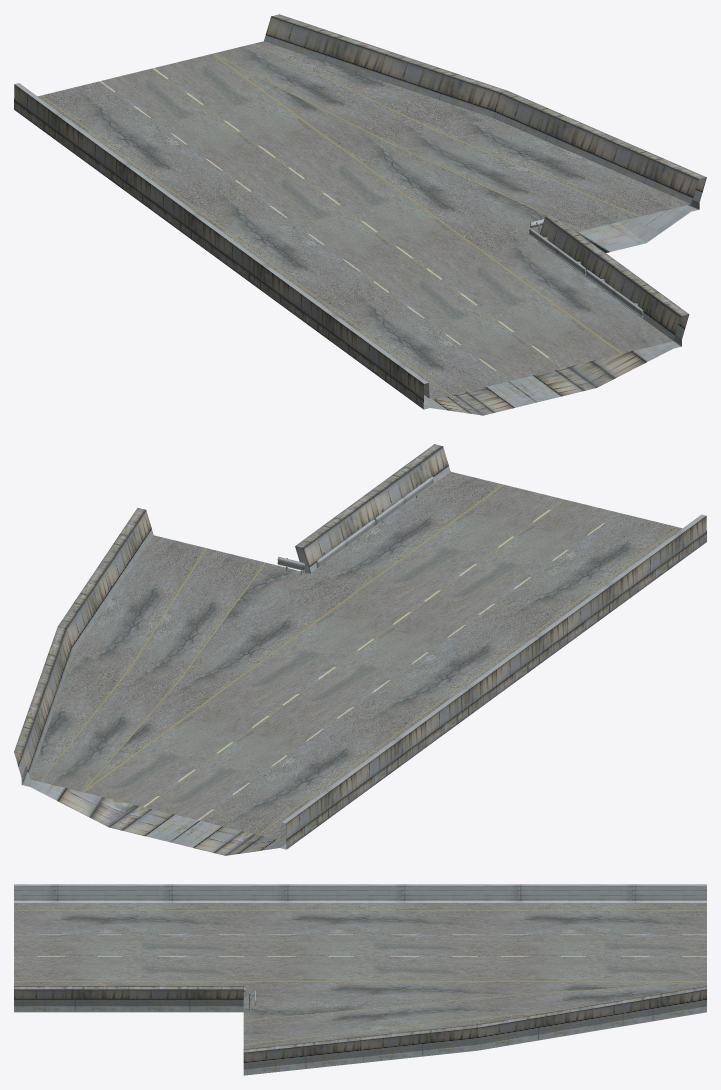
File: Highway_Road_Part_10.fbx
The picture shows the model from 3 angles, top to bottom: view 1: azimuth 30°, elevation 25°; view 2: azimuth 150°, elevation 25°; view 3: azimuth 270°, elevation 25°; orthographic projection. The views are drawn at different scales.
Parts seen in each view (by area): view 1: Highway_Road_Part_10; view 2: Highway_Road_Part_10; view 3: Highway_Road_Part_10.
Boxes of the visible parts, x1,y1,x2,y2 form: Highway_Road_Part_10: [14, 14, 706, 415]; Highway_Road_Part_10: [14, 444, 706, 855]; Highway_Road_Part_10: [14, 884, 706, 1075].
Bounding box in the file's own units: 2354 × 274 × 3987.
